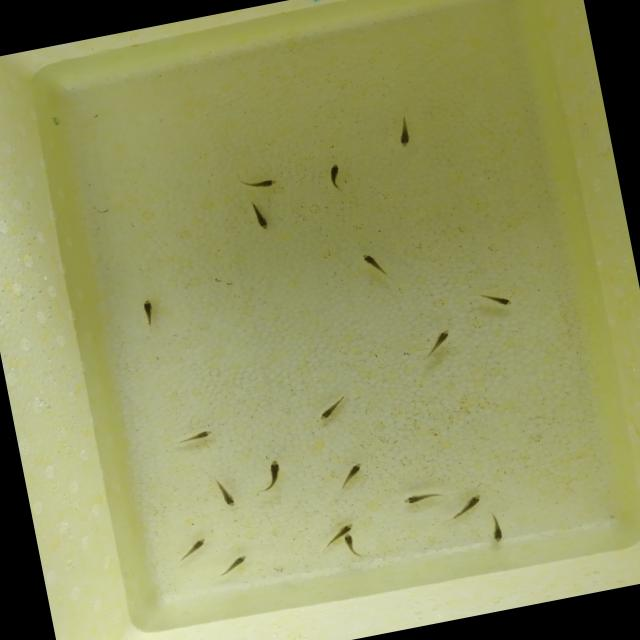fingerling: (427, 322, 458, 355), (264, 454, 292, 490), (354, 248, 390, 276), (454, 488, 486, 518), (212, 554, 252, 578), (174, 536, 214, 560), (133, 297, 165, 327), (326, 516, 360, 544), (241, 172, 282, 195), (212, 480, 242, 510), (247, 203, 274, 235), (324, 158, 348, 193), (485, 289, 519, 313), (392, 122, 421, 150), (398, 489, 438, 509), (486, 515, 509, 548), (312, 400, 340, 427), (176, 428, 220, 444), (342, 534, 361, 560)
